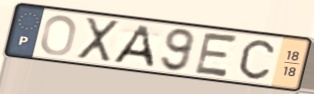9: (158, 27, 197, 74)
A: (109, 23, 156, 69)
C: (237, 38, 277, 81)
E: (191, 30, 241, 79)
O: (39, 13, 80, 58)
X: (75, 16, 122, 64)
